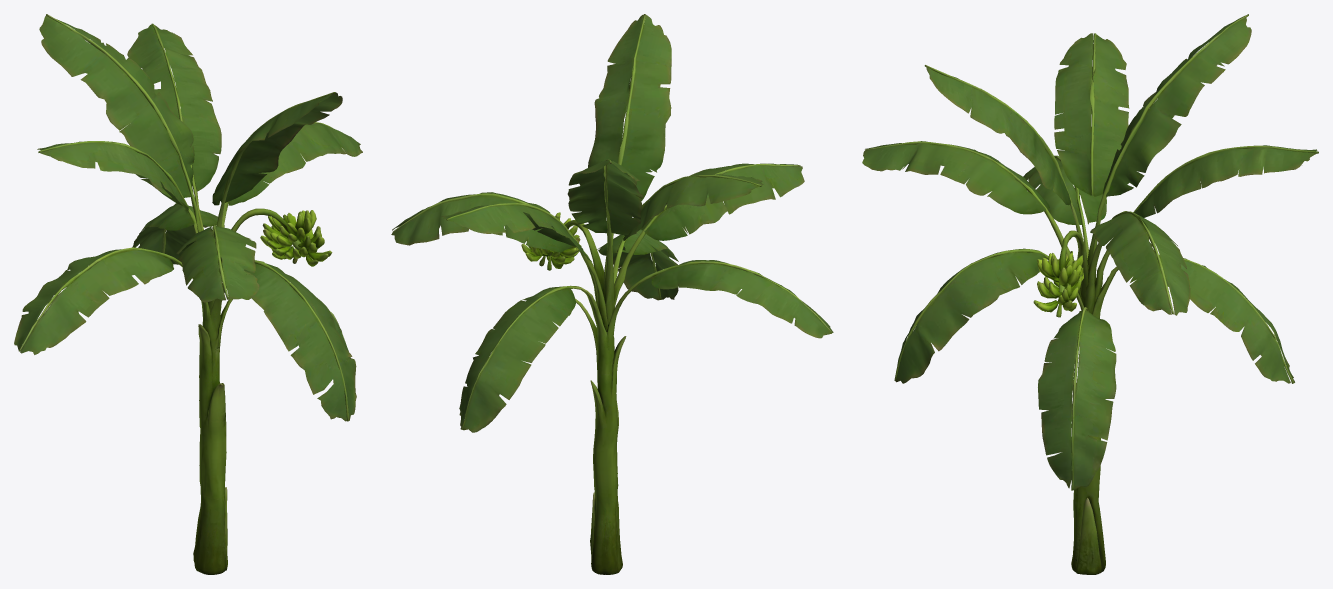
File: banana_a.glb
3 renders of one model, left to right at view 1: azimuth 30°, elevation 25°; view 2: azimuth 150°, elevation 25°; view 3: azimuth 270°, elevation 25°, orthographic. The views are drawn at different scales.
Visible parts, largest first — view 1: geometry_0; view 2: geometry_0; view 3: geometry_0.
Part boxes in pixels (bbox=[...]): geometry_0: bbox=[14, 14, 362, 574]; geometry_0: bbox=[391, 14, 833, 574]; geometry_0: bbox=[862, 14, 1318, 574].
Bounding box in the file's own units: 0.7705 × 0.9517 × 0.7515.
Materials: 1 (1 with a texture image).
